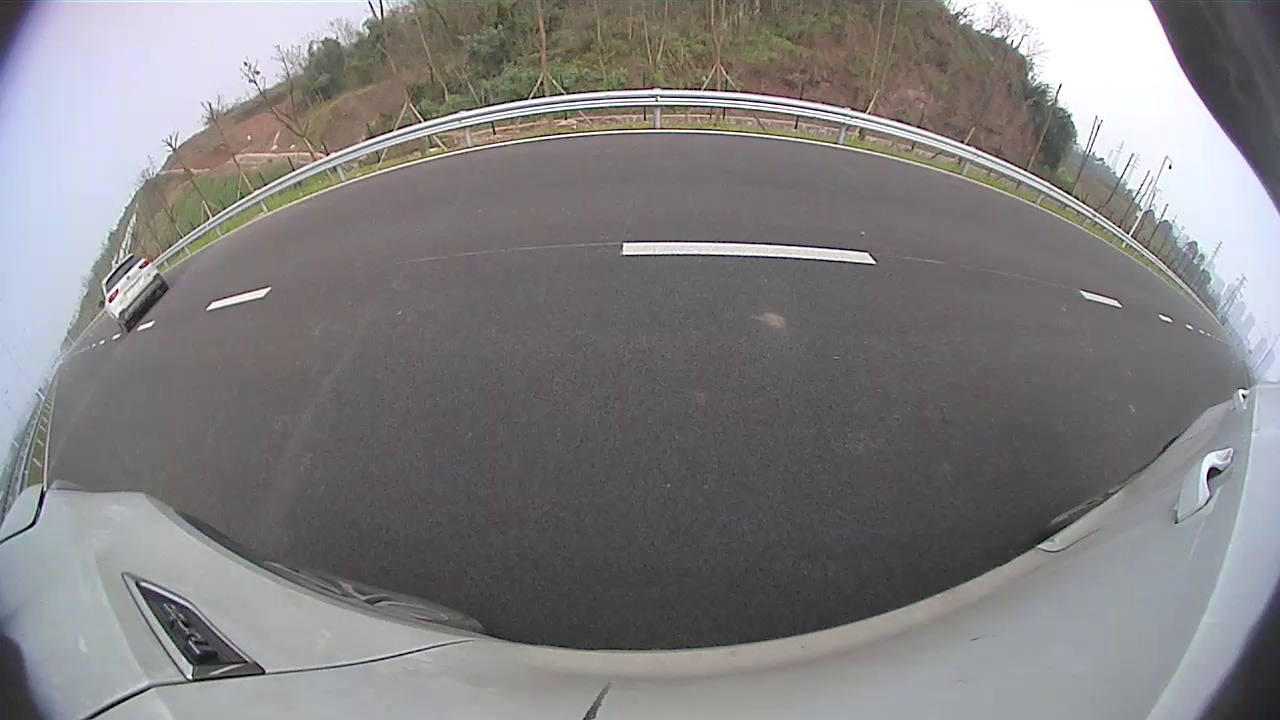car: (99, 251, 170, 334)
